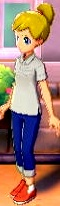woman_no_egg: (1, 2, 60, 206)
